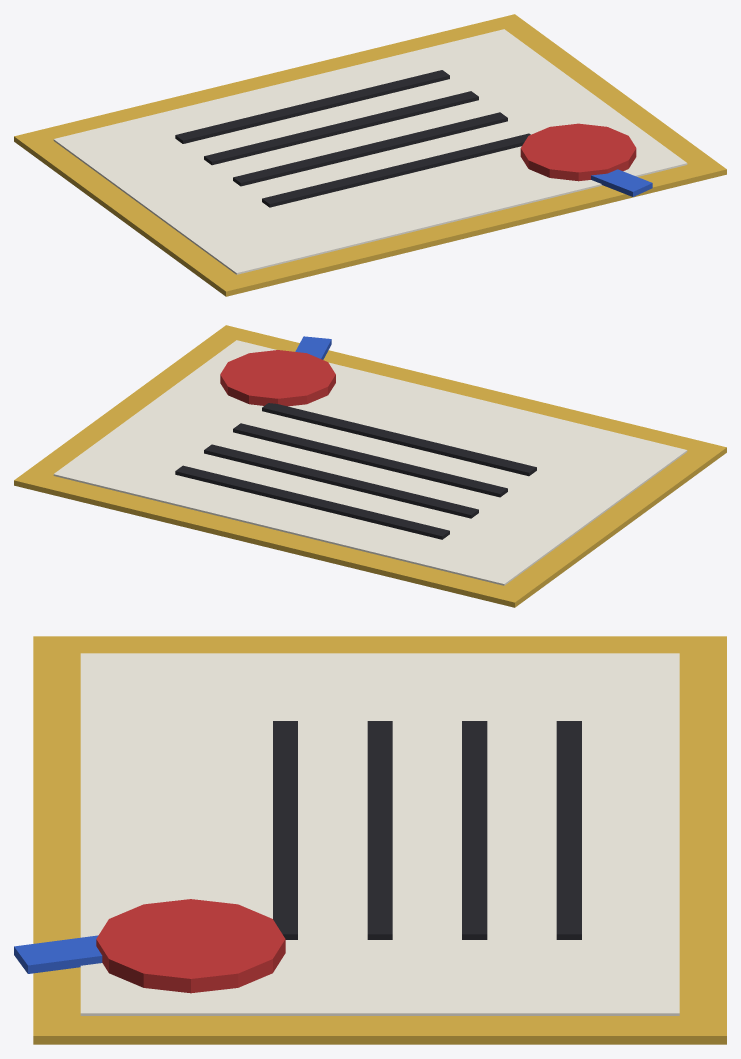
File: gym_record_certificate.glb
3 views of the same model, one above another, from view 1: azimuth 30°, elevation 25°; view 2: azimuth 150°, elevation 25°; view 3: azimuth 270°, elevation 25° (orthographic). The views are drawn at different scales.
Parts seen in each view (by area): view 1: paper_sheet_paper, paper_cert_gold, lines_sheet_ink (×4), seal_cert_seal, seal_cert_ribbon; view 2: paper_sheet_paper, paper_cert_gold, lines_sheet_ink (×4), seal_cert_seal, seal_cert_ribbon; view 3: paper_sheet_paper, paper_cert_gold, lines_sheet_ink (×4), seal_cert_seal, seal_cert_ribbon.
Part boxes in pixels (x1,y1,x2,y2): paper_sheet_paper: (53,29,687,274); paper_cert_gold: (14,14,726,296); lines_sheet_ink (×4): (175,70,530,207); seal_cert_seal: (520,123,636,181); seal_cert_ribbon: (591,169,652,196); paper_sheet_paper: (53,340,687,585); paper_cert_gold: (14,325,726,607); lines_sheet_ink (×4): (175,403,536,539); seal_cert_seal: (220,350,335,406); seal_cert_ribbon: (295,336,331,359); paper_sheet_paper: (80,653,679,1015); paper_cert_gold: (33,636,726,1044); lines_sheet_ink (×4): (273,721,581,939); seal_cert_seal: (96,899,285,993); seal_cert_ribbon: (14,935,102,973).
Size of the model in its own units: 0.3 by 0.009 by 0.2261.
